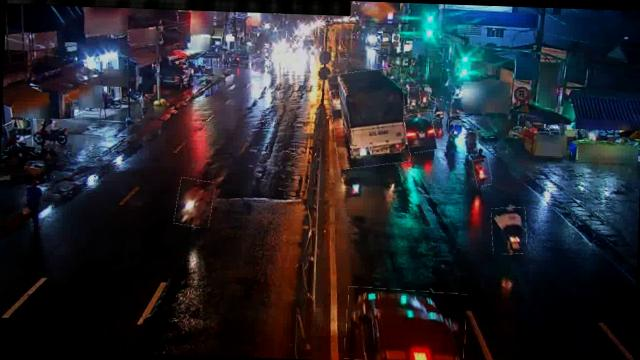Bike: (175, 178, 215, 227), (491, 206, 528, 254), (32, 119, 66, 146), (473, 158, 492, 187), (448, 120, 467, 148), (463, 131, 480, 156), (451, 95, 464, 119), (434, 97, 447, 121), (408, 87, 418, 111), (420, 85, 430, 108)
Car: (345, 287, 467, 360), (404, 113, 436, 154)
Truck: (328, 66, 412, 169)
